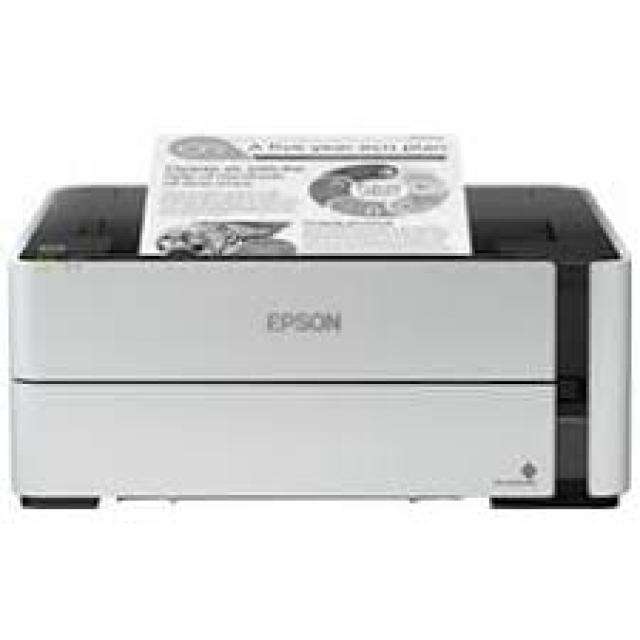printer: (3, 174, 631, 509)
